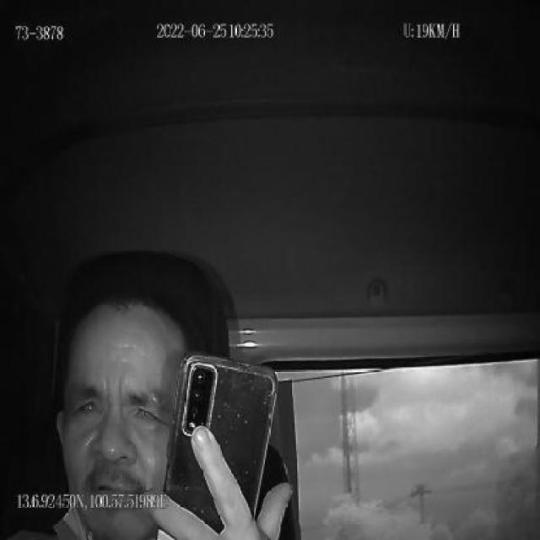phone: (164, 352, 276, 540)
